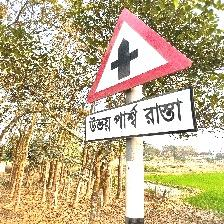Crossroad: (86, 9, 196, 140)
